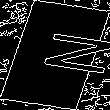N_W: (11, 30, 99, 80)
